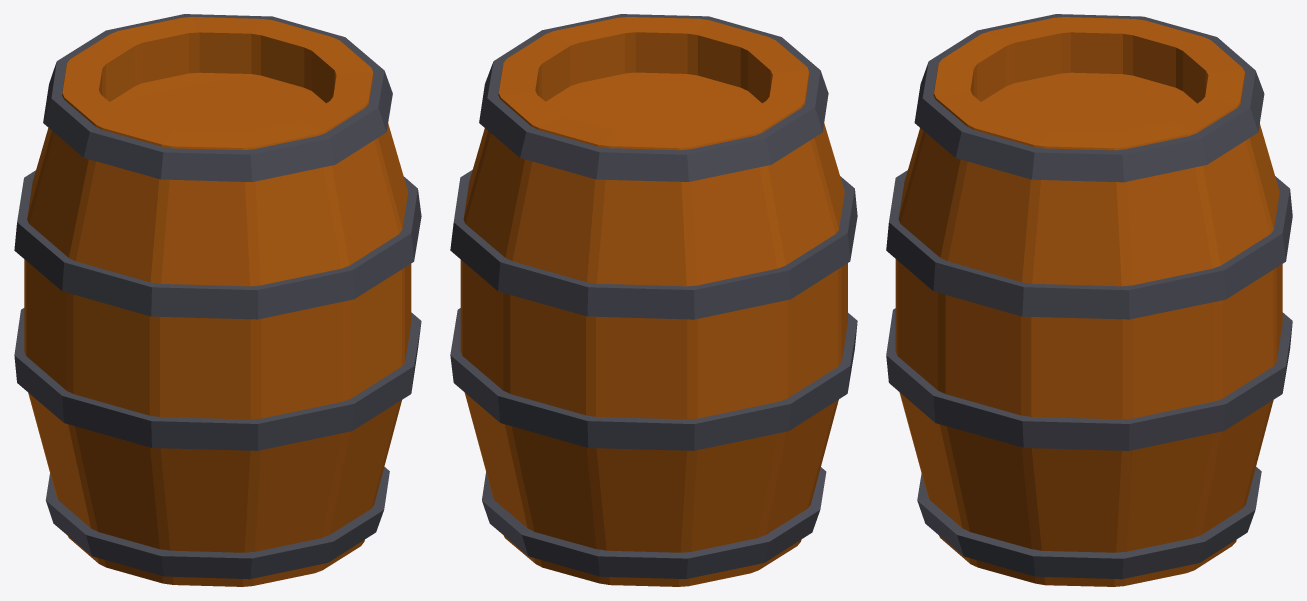
File: Barrel_2_3.fbx
The picture shows the model from 3 angles, left to right: view 1: azimuth 30°, elevation 25°; view 2: azimuth 150°, elevation 25°; view 3: azimuth 270°, elevation 25°; orthographic projection.
Visible parts, largest first — view 1: Barrel_2_3; view 2: Barrel_2_3; view 3: Barrel_2_3.
Part boxes in pixels (x1,y1,x2,y2): Barrel_2_3: (14,14,421,586); Barrel_2_3: (450,14,857,586); Barrel_2_3: (886,14,1292,586).
Bounding box in the file's own units: 21.78 × 26.05 × 21.78.
